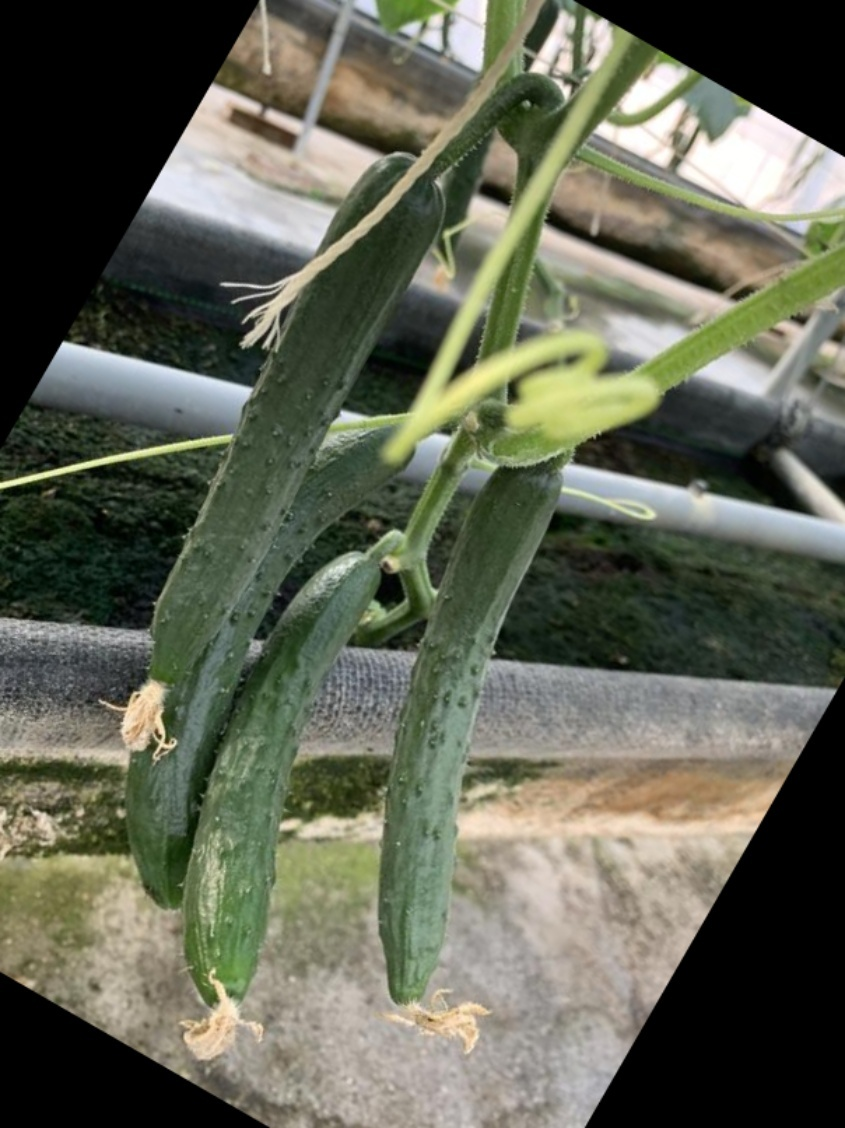mature: (172, 531, 382, 1019)
